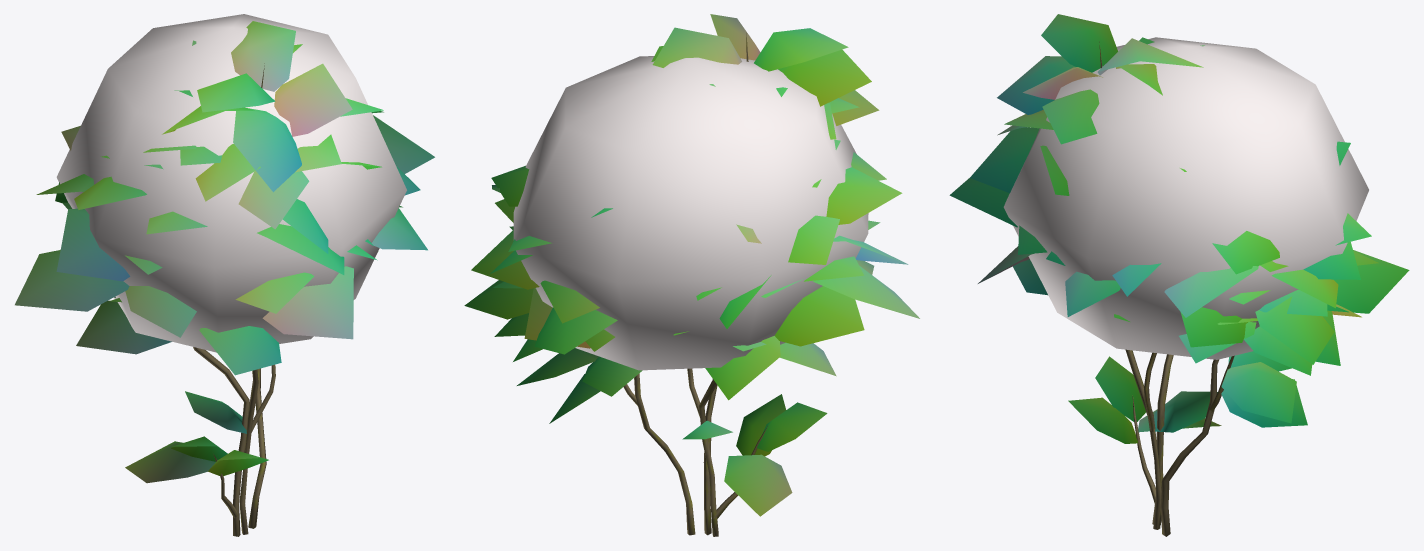
The model's file is Homeworld_Exterior_Common_Plant_Grass_21_Lod0.fbx.
3 renders of one model, left to right at view 1: azimuth 30°, elevation 25°; view 2: azimuth 150°, elevation 25°; view 3: azimuth 270°, elevation 25°, orthographic. The views are drawn at different scales.
Visible parts, largest first — view 1: EffectMesh, Area_Ly_Grass_Common_Sbb_02_Leaf_Lod0, Area_Ly_Grass_Common_Sbb_02_Bark_Lod0; view 2: EffectMesh, Area_Ly_Grass_Common_Sbb_02_Leaf_Lod0, Area_Ly_Grass_Common_Sbb_02_Bark_Lod0; view 3: EffectMesh, Area_Ly_Grass_Common_Sbb_02_Leaf_Lod0, Area_Ly_Grass_Common_Sbb_02_Bark_Lod0.
Boxes of the visible parts, x1=… form: EffectMesh: x1=56, y1=14, x2=406, y2=352; Area_Ly_Grass_Common_Sbb_02_Leaf_Lod0: x1=15, y1=21, x2=434, y2=483; Area_Ly_Grass_Common_Sbb_02_Bark_Lod0: x1=193, y1=63, x2=275, y2=536; EffectMesh: x1=513, y1=56, x2=868, y2=370; Area_Ly_Grass_Common_Sbb_02_Leaf_Lod0: x1=464, y1=14, x2=919, y2=516; Area_Ly_Grass_Common_Sbb_02_Bark_Lod0: x1=623, y1=33, x2=767, y2=536; EffectMesh: x1=1003, y1=37, x2=1368, y2=359; Area_Ly_Grass_Common_Sbb_02_Leaf_Lod0: x1=949, y1=14, x2=1409, y2=443; Area_Ly_Grass_Common_Sbb_02_Bark_Lod0: x1=1099, y1=41, x2=1234, y2=536.
Bounding box in the file's own units: 3.25 × 3.61 × 3.08.
